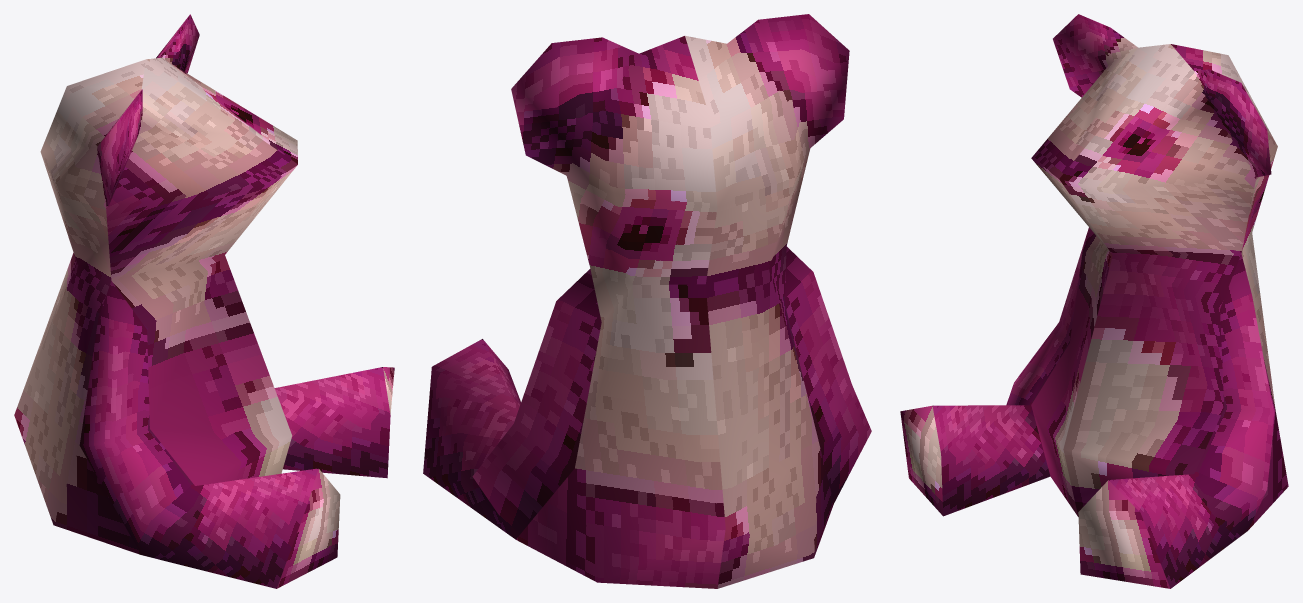
The model's file is int_pnd_l.dae.
3 renders of one model, left to right at view 1: azimuth 30°, elevation 25°; view 2: azimuth 150°, elevation 25°; view 3: azimuth 270°, elevation 25°, orthographic. The views are drawn at different scales.
Parts seen in each view (by area): view 1: int_pnd_l; view 2: int_pnd_l; view 3: int_pnd_l.
Boxes of the visible parts, left/top/right/bottom form: int_pnd_l: left=14, top=14, right=394, bottom=588; int_pnd_l: left=423, top=14, right=871, bottom=588; int_pnd_l: left=900, top=14, right=1288, bottom=588.
Size of the model in its own units: 51.19 by 63.2 by 51.19.
Materials: 1 (1 with a texture image).
